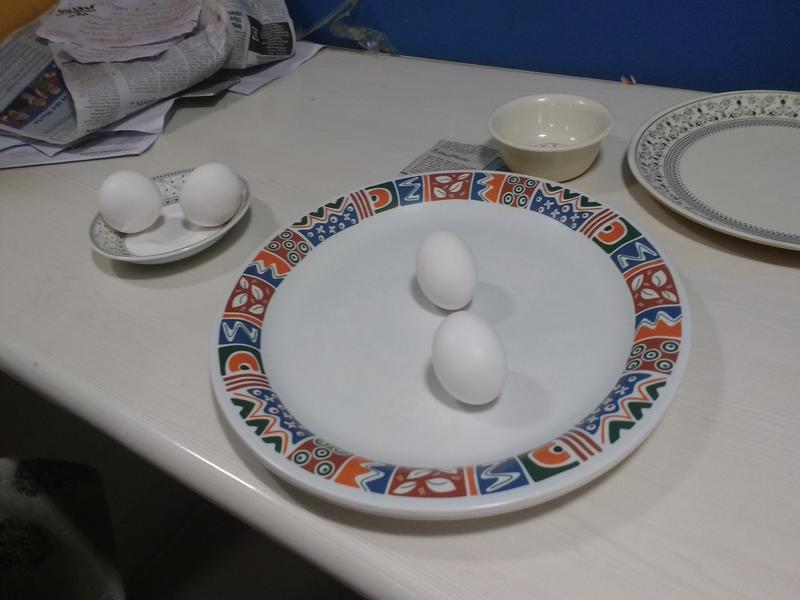egg: (430, 308, 511, 408)
